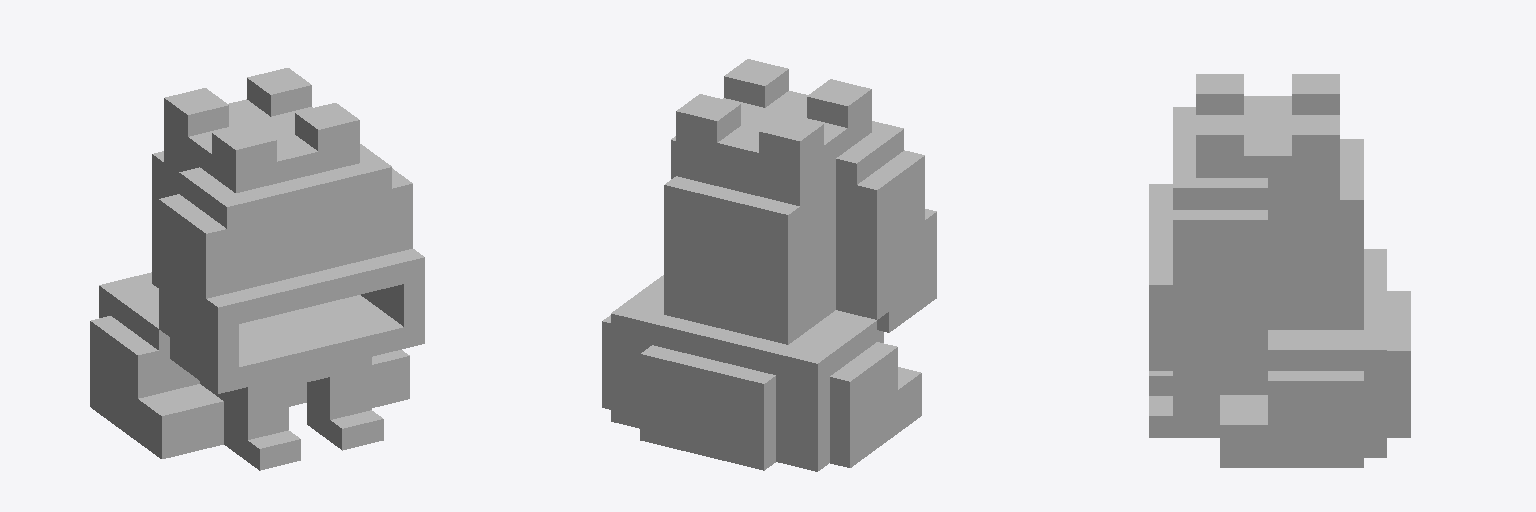
File: myth rofl.vox.obj
The picture shows the model from 3 angles: view 1: azimuth 30°, elevation 25°; view 2: azimuth 150°, elevation 25°; view 3: azimuth 270°, elevation 25°; orthographic projection.
Visible parts, largest first — view 1: object 1; view 2: object 1; view 3: object 1.
Part boxes in pixels (x1,y1,x2,y2): object 1: (90,68,424,470); object 1: (602,59,936,471); object 1: (1149,74,1410,467).
Size of the model in its own units: 1.2 by 1.4 by 1.1.